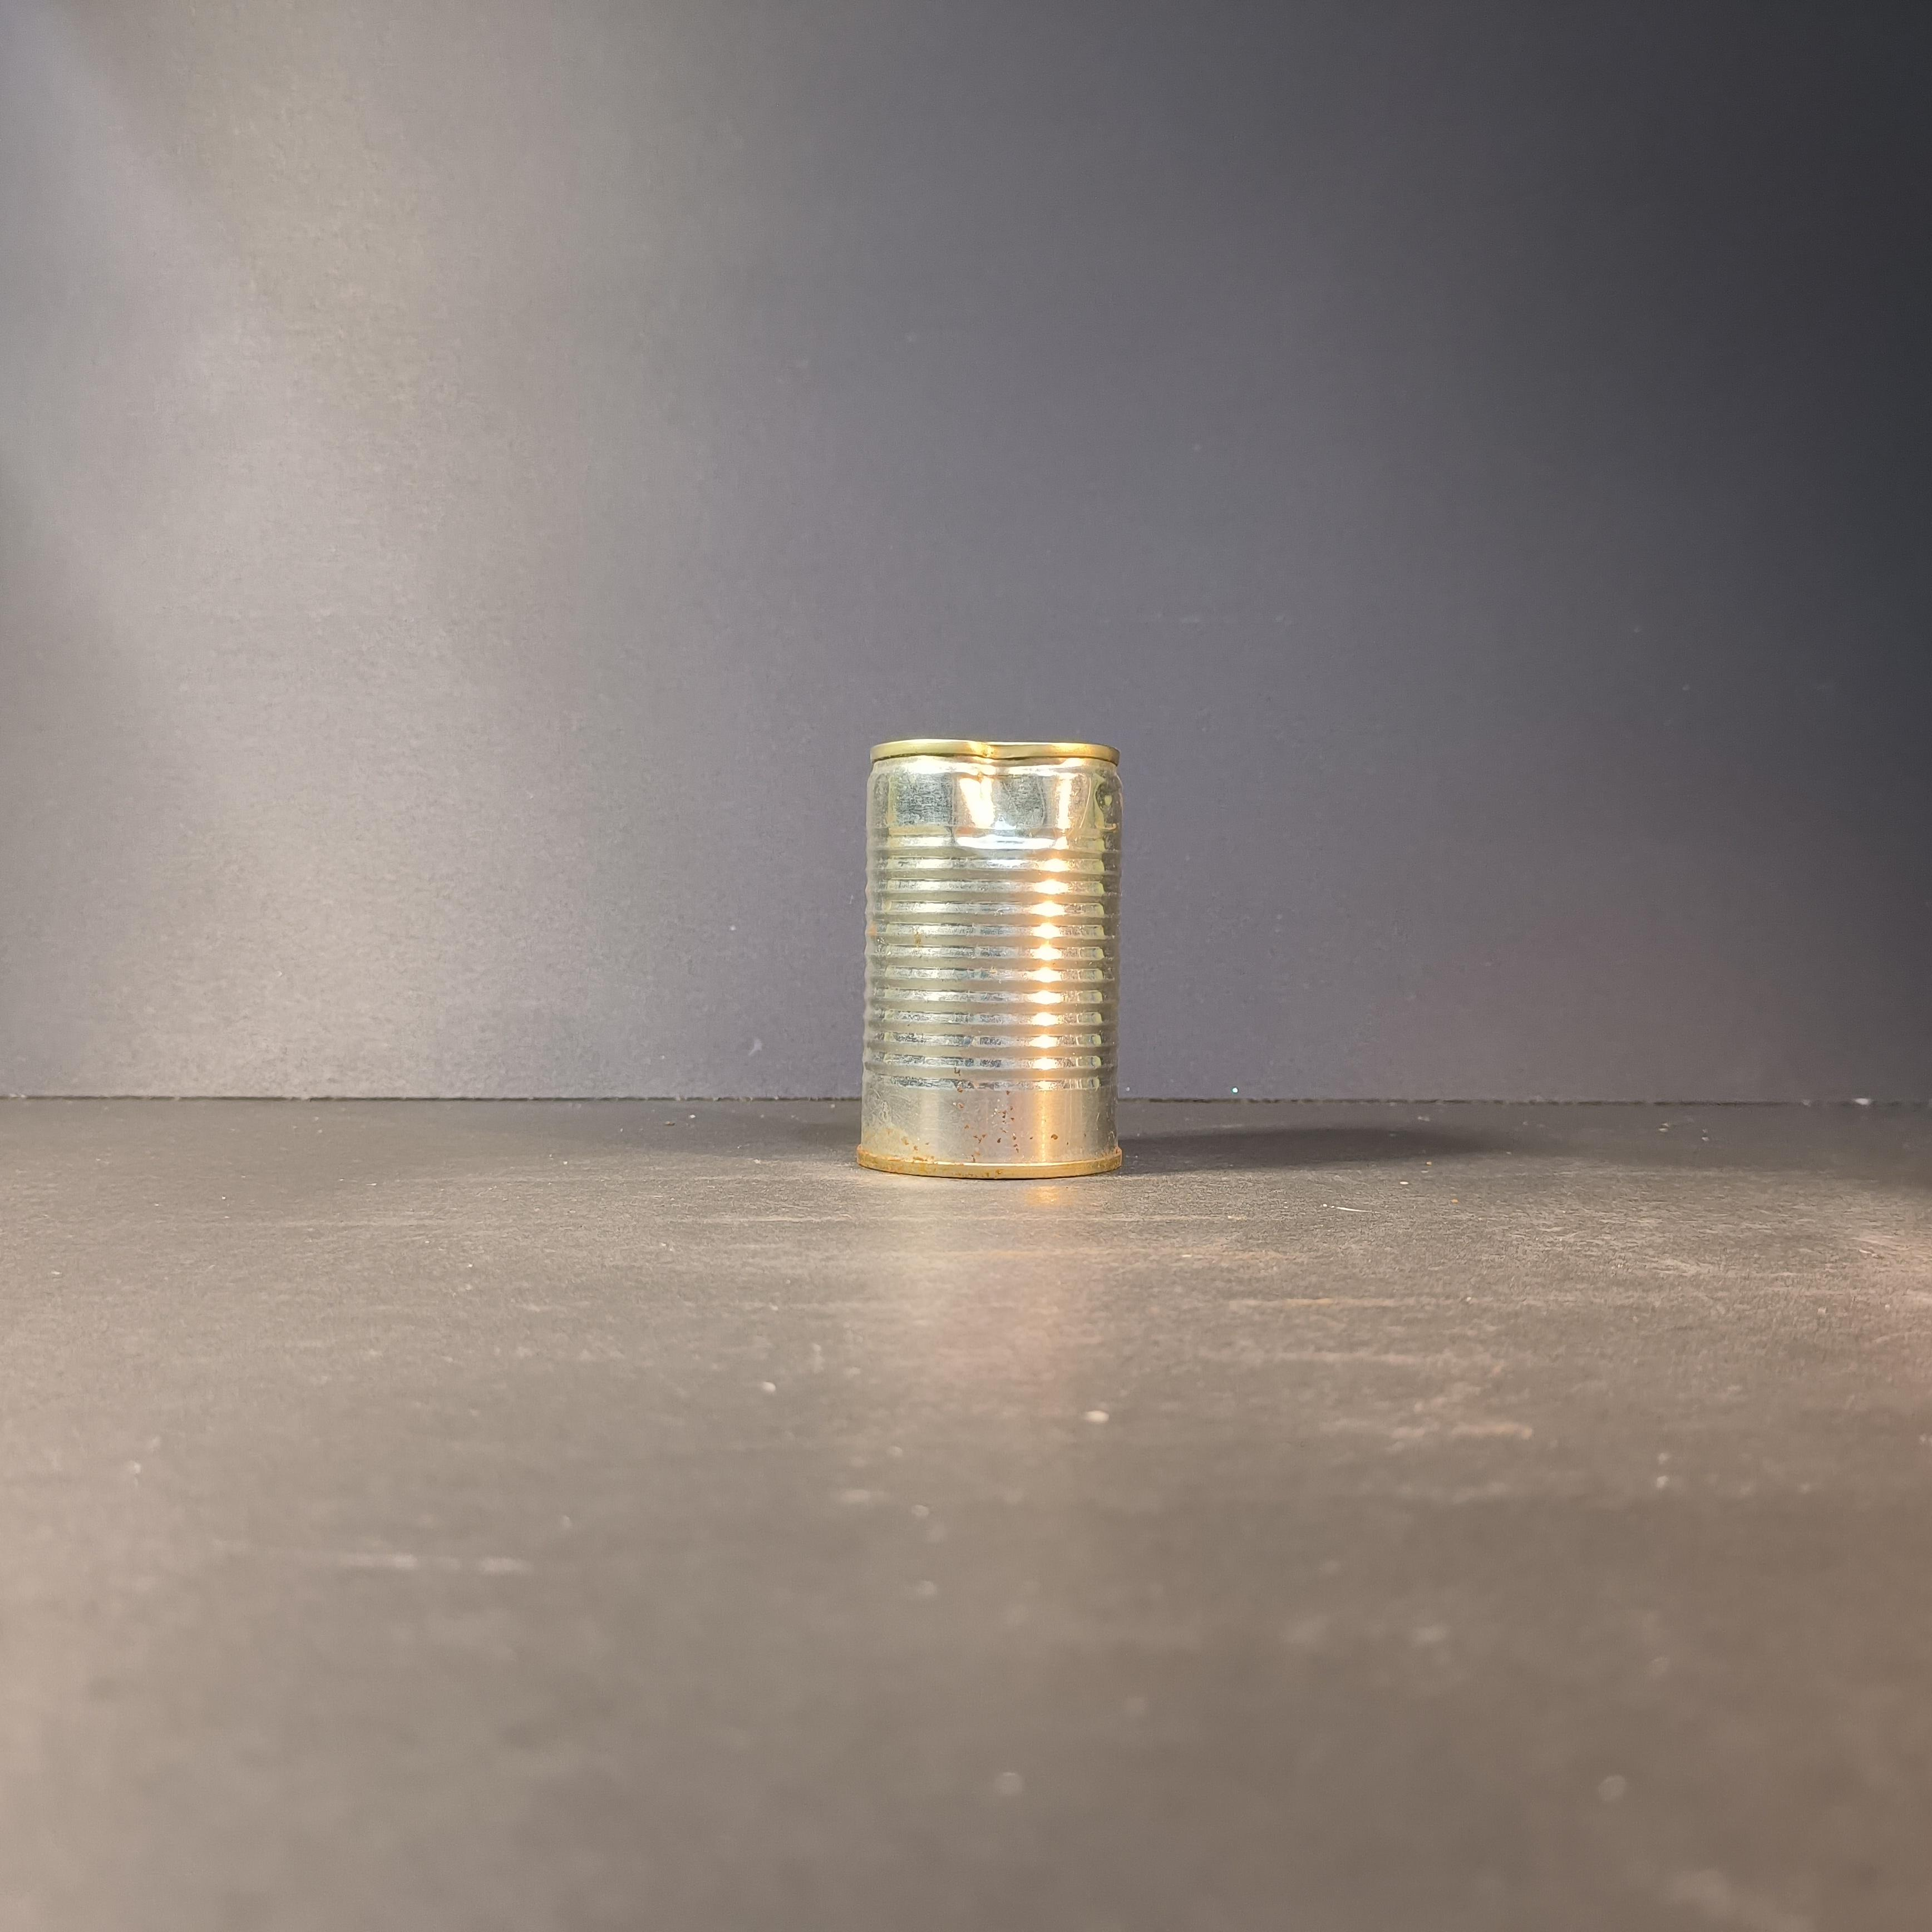Critical Defect: (855, 738, 1123, 1180)
